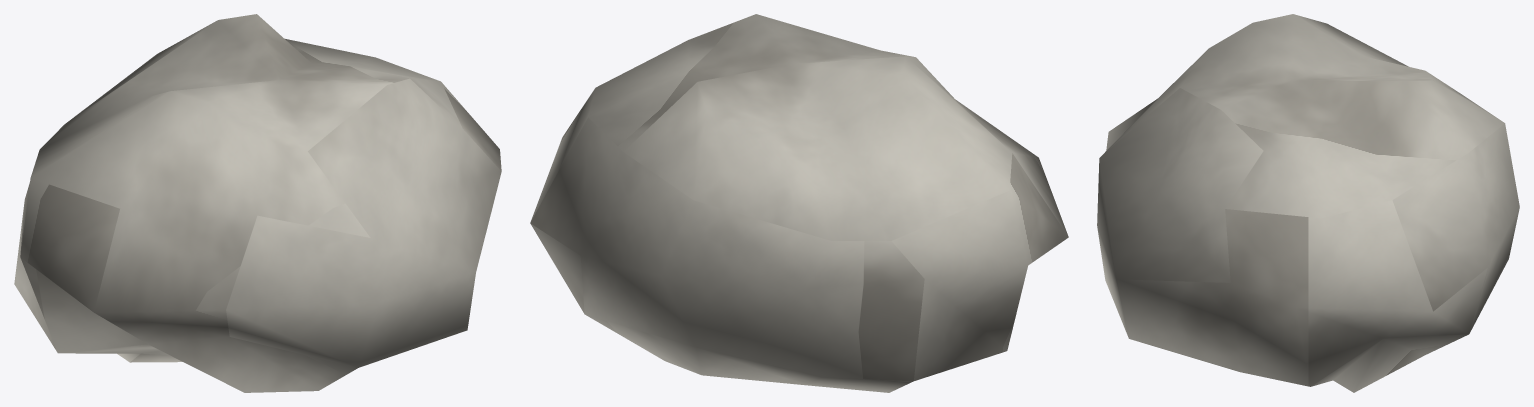
File: NT04_rocks_v2.glb
3 views of the same model, side by side, from view 1: azimuth 30°, elevation 25°; view 2: azimuth 150°, elevation 25°; view 3: azimuth 270°, elevation 25° (orthographic). The views are drawn at different scales.
Visible parts, largest first — view 1: NT04_rocks_v2; view 2: NT04_rocks_v2; view 3: NT04_rocks_v2.
Part boxes in pixels (x1=…): NT04_rocks_v2: x1=14, y1=14, x2=501, y2=392; NT04_rocks_v2: x1=530, y1=14, x2=1068, y2=392; NT04_rocks_v2: x1=1097, y1=14, x2=1519, y2=392.
Bounding box in the file's own units: 1 × 0.6117 × 0.8033.
1 material, 1 textured.
